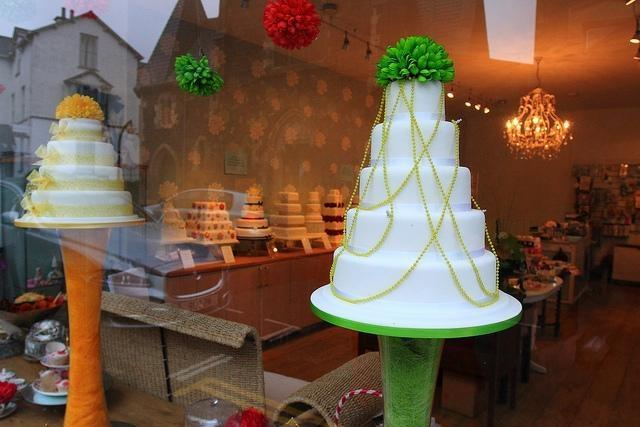car: (2, 160, 244, 330)
